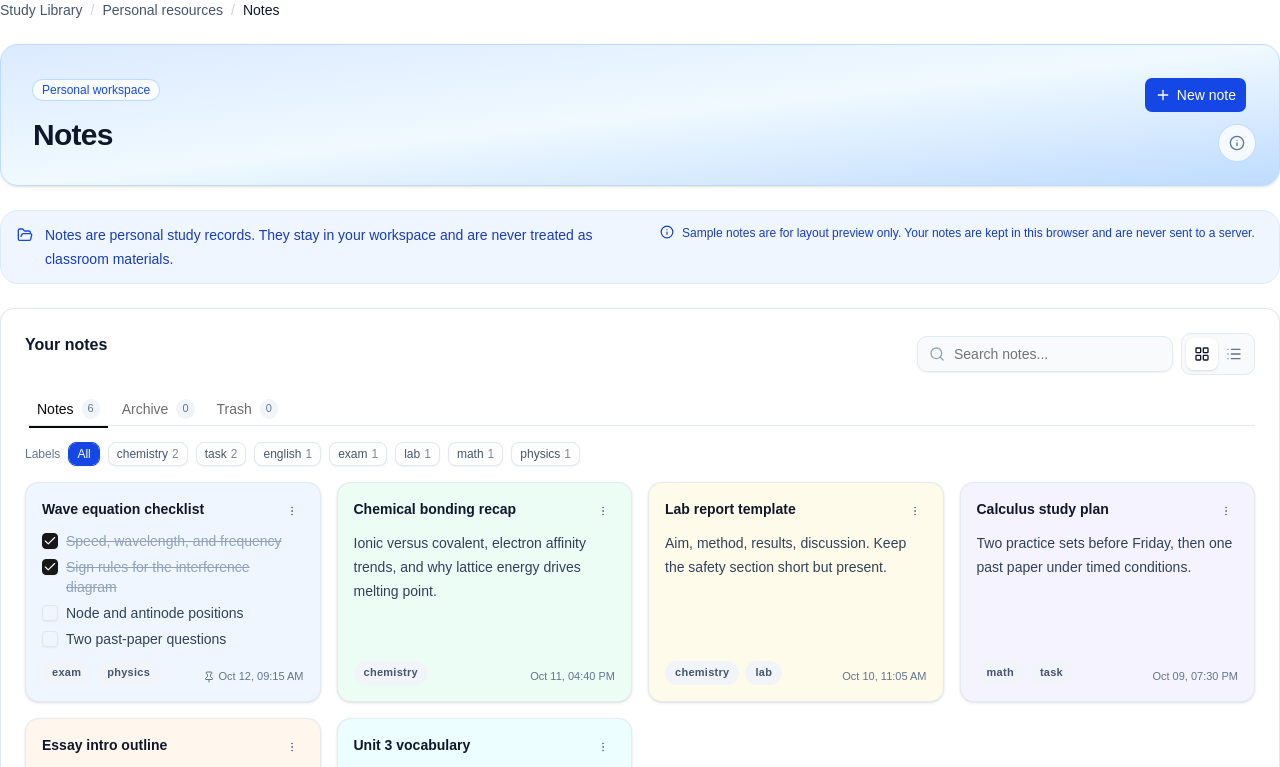
Scenario: NotesView › filters the list with the search field
Type "bonding" into the search field labelled "Search notes" at (1045, 354), box [917,336,1173,372]
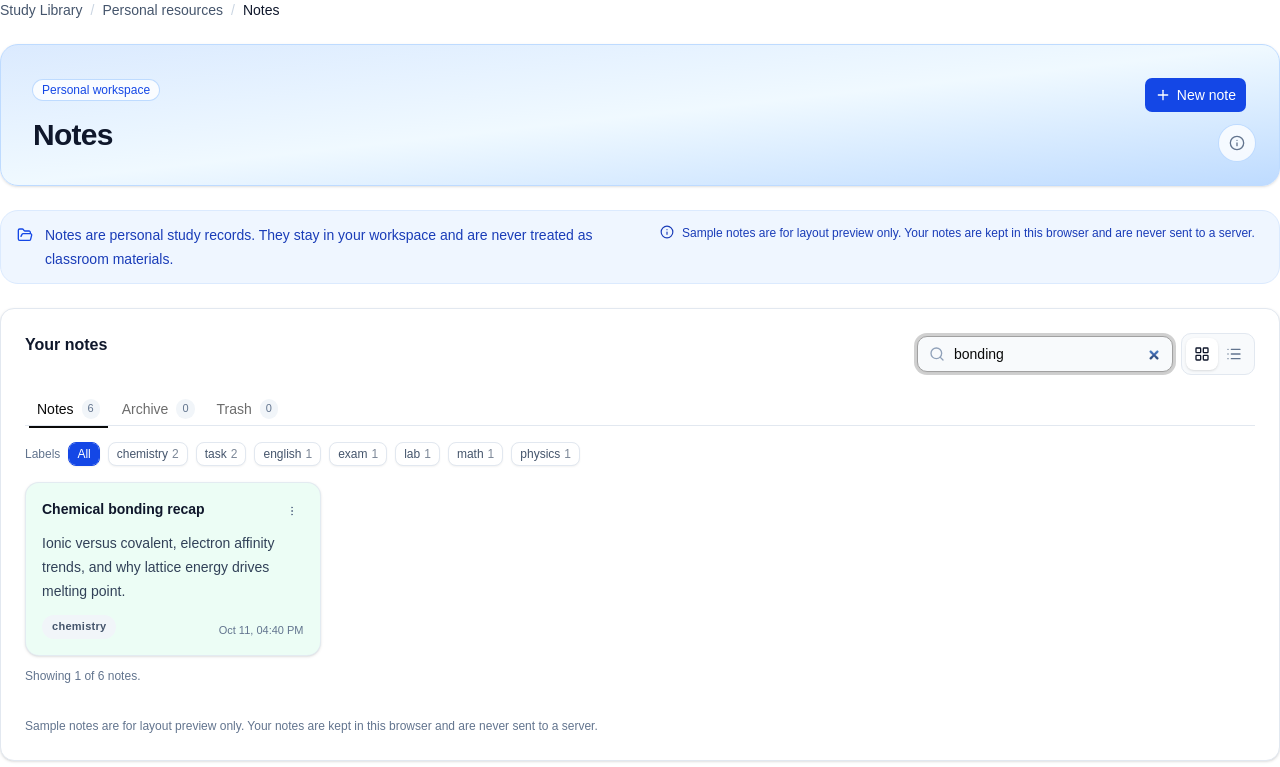
Expected: the button "Chemical bonding recap" is shown, [42,499,272,519]
Result: the button "Wave equation checklist" is gone
